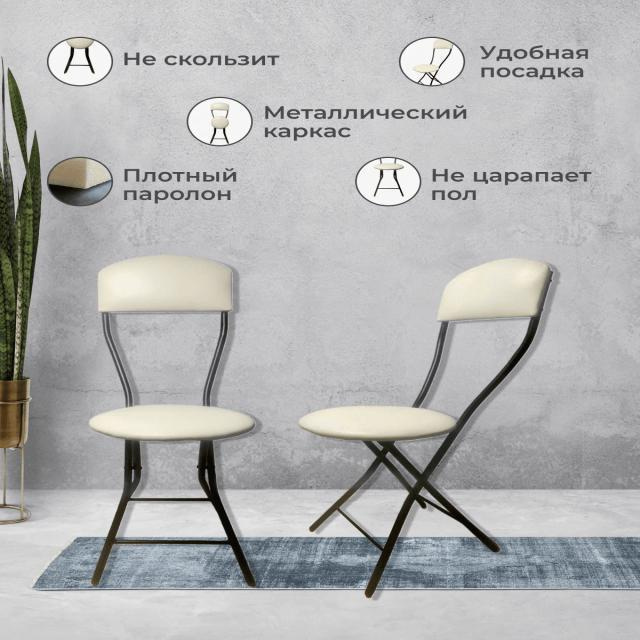chair: (292, 252, 558, 601), (78, 250, 266, 590), (298, 244, 568, 455), (74, 235, 266, 475)
